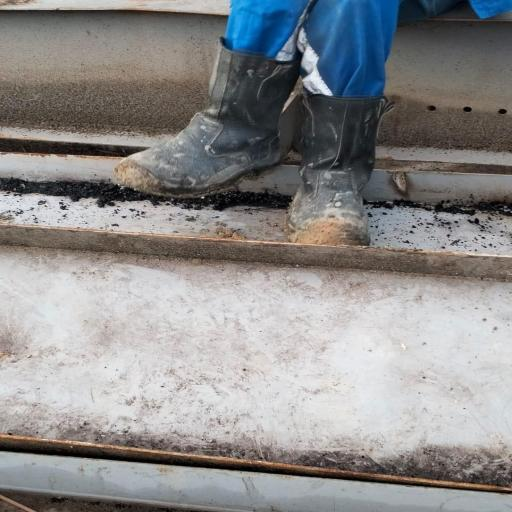safety_shoe: (114, 41, 290, 199), (295, 90, 386, 244)
